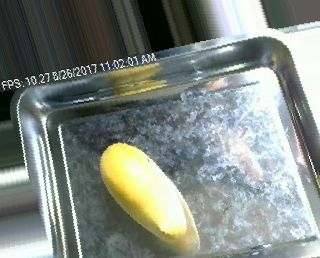Mango: (100, 143, 187, 241)
